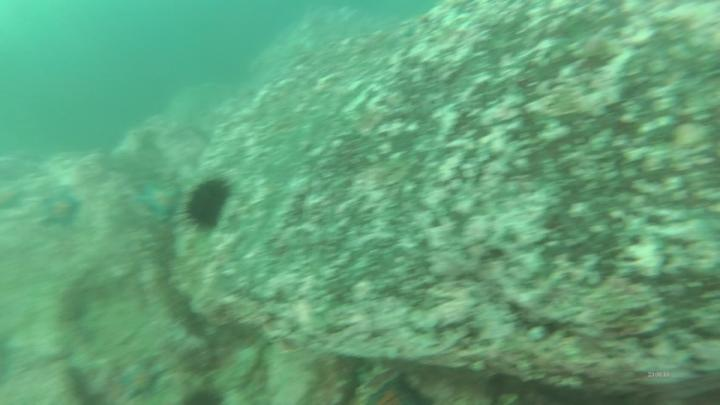echinus: (187, 178, 235, 228)
starfish: (115, 360, 169, 401), (136, 184, 184, 222), (41, 190, 83, 229)
